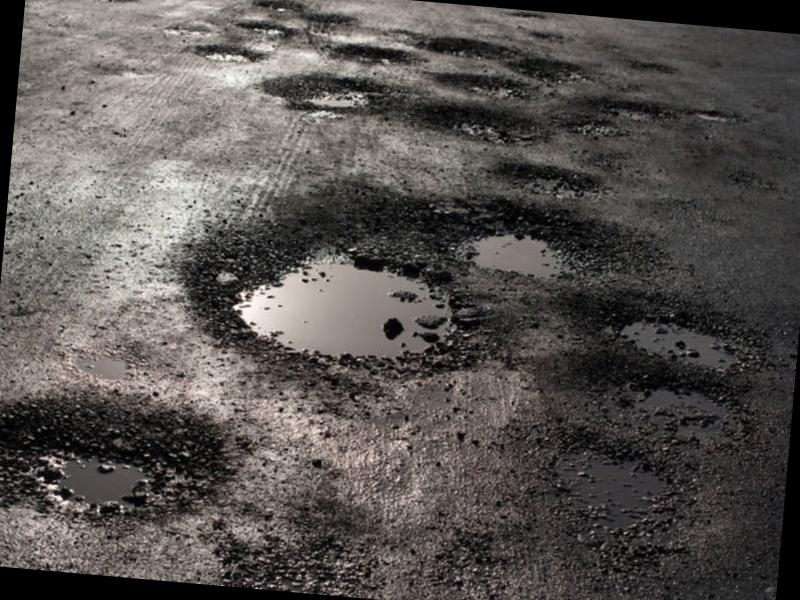pothole: (3, 382, 238, 560), (491, 421, 733, 572), (227, 237, 465, 372), (568, 358, 764, 458), (432, 194, 586, 296), (594, 286, 758, 376), (399, 94, 543, 157), (552, 96, 670, 162), (268, 64, 384, 122), (488, 155, 614, 208), (510, 50, 616, 96), (438, 66, 543, 106), (416, 26, 519, 66), (334, 36, 426, 77), (188, 38, 274, 74), (226, 15, 304, 46), (302, 11, 368, 40), (683, 100, 736, 129), (632, 53, 684, 81), (152, 18, 210, 40), (256, 0, 310, 17), (73, 0, 133, 11)
